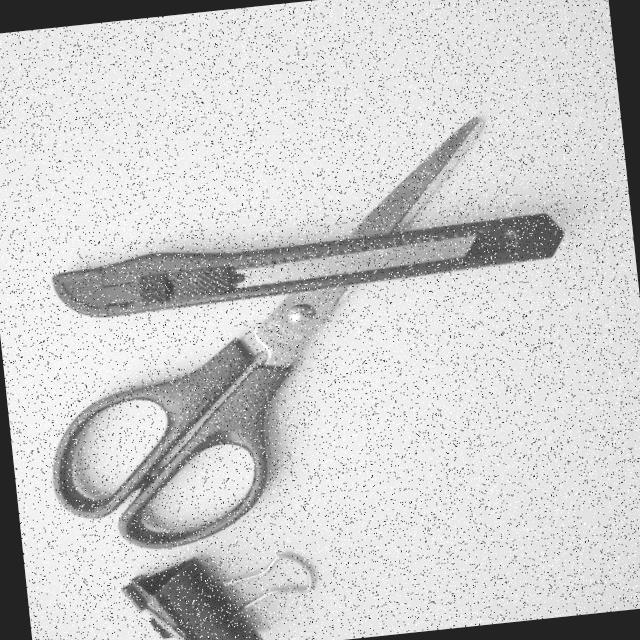scissors: (39, 94, 502, 562)
